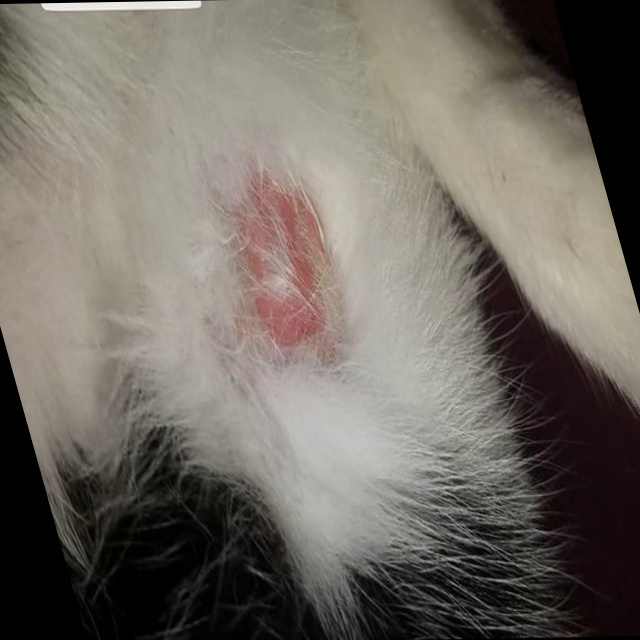lump_and_bump: (205, 197, 348, 349)
